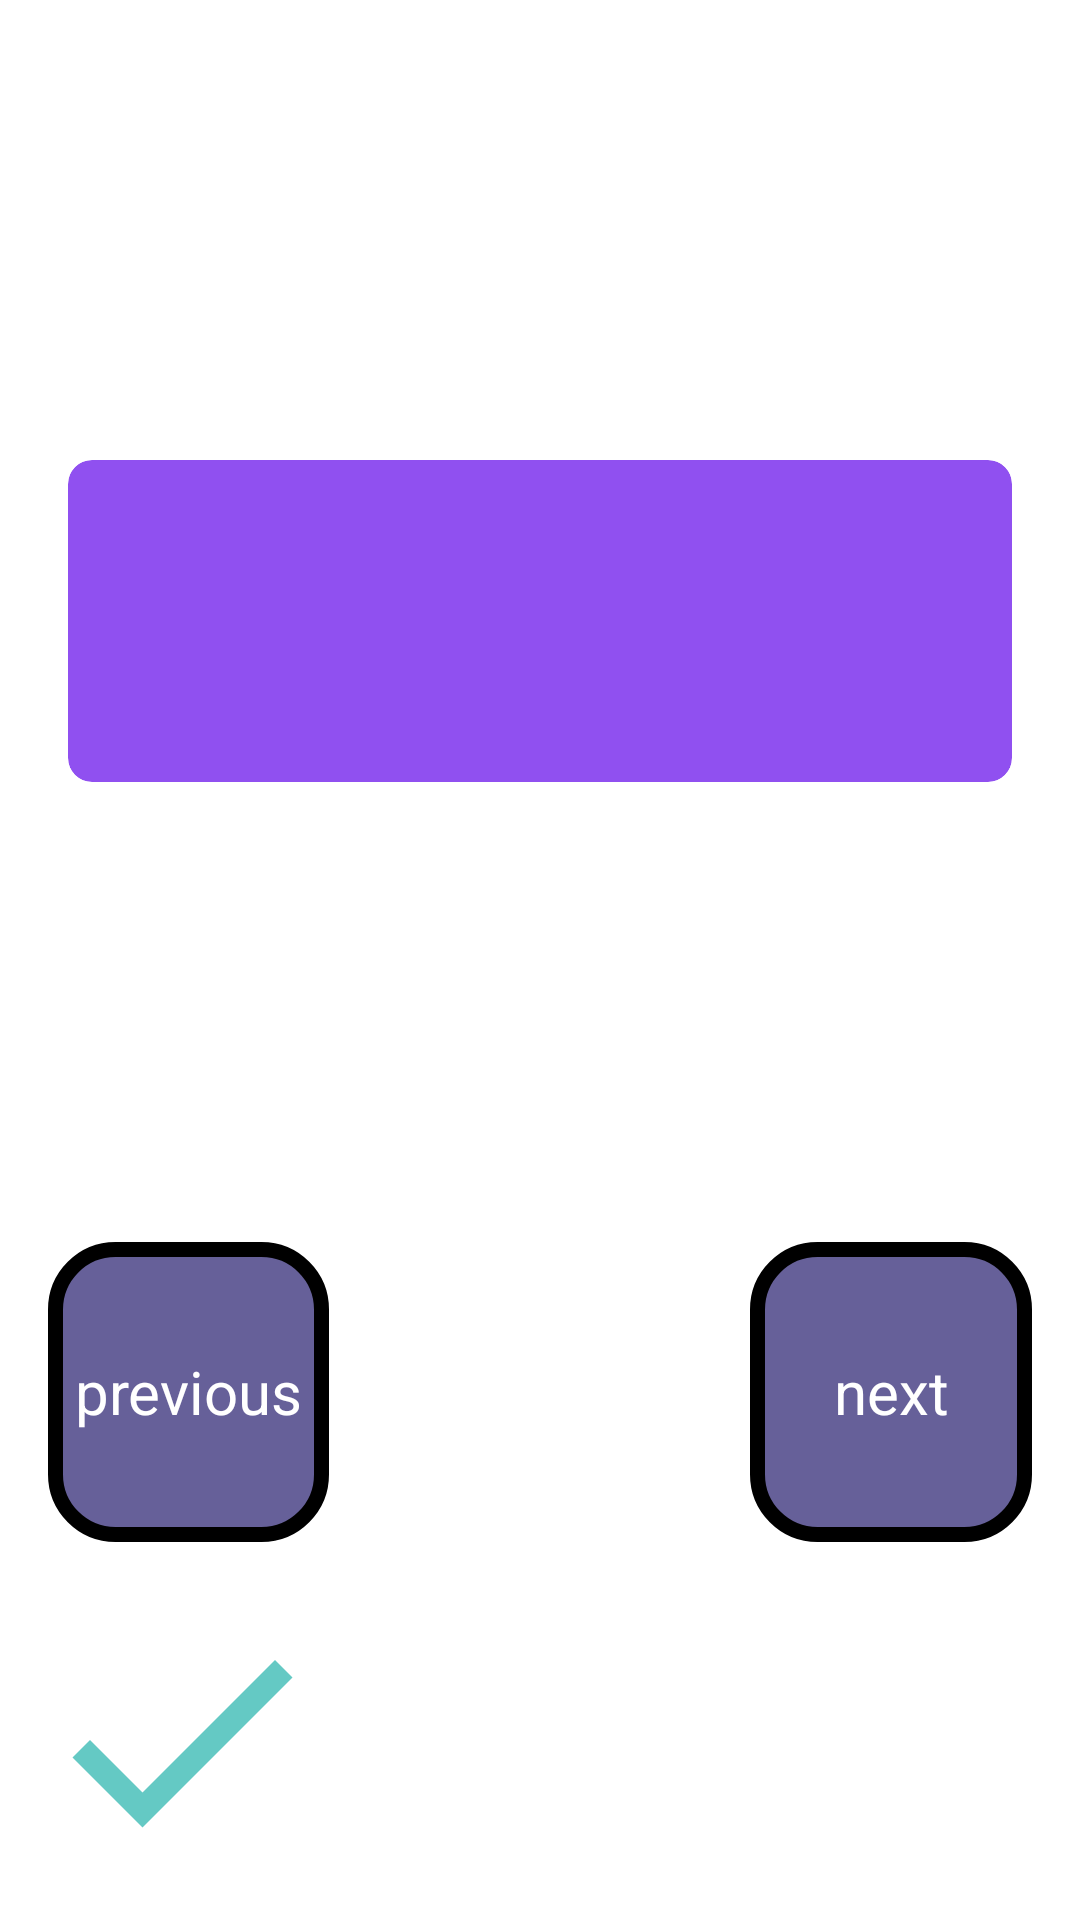

Named icons in this screenshot (1080 × 1920) and their centers, (x=x, y=y):
done: (x=182, y=1744)
